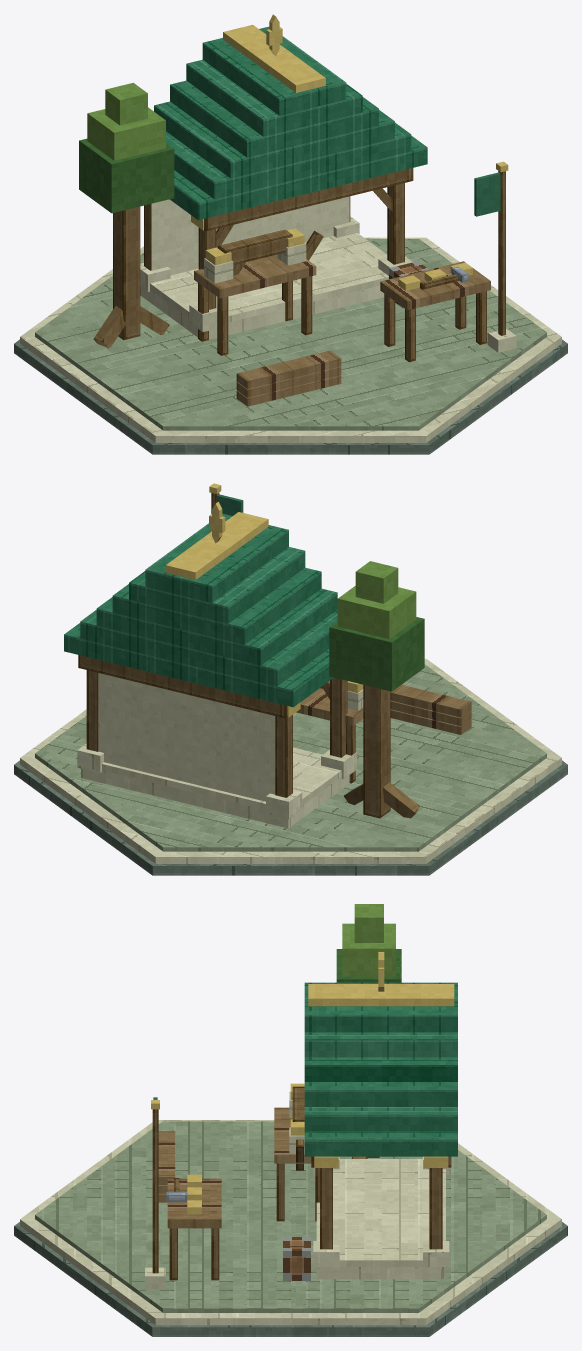
The model's file is elf_workshop_hex_v1.glb.
The picture shows the model from 3 angles, top to bottom: view 1: azimuth 30°, elevation 25°; view 2: azimuth 150°, elevation 25°; view 3: azimuth 270°, elevation 25°; orthographic projection.
Parts seen in each view (by area): view 1: Elf_Workshop_Hex_V1_Foundation, Elf_Workshop_Hex_V1_Roofs, Elf_Workshop_Hex_V1_Details, Elf_Workshop_Hex_V1_Hall, Elf_Workshop_Hex_V1_Structure, Elf_Workshop_Hex_V1_Faction; view 2: Elf_Workshop_Hex_V1_Foundation, Elf_Workshop_Hex_V1_Roofs, Elf_Workshop_Hex_V1_Hall, Elf_Workshop_Hex_V1_Details, Elf_Workshop_Hex_V1_Structure; view 3: Elf_Workshop_Hex_V1_Foundation, Elf_Workshop_Hex_V1_Roofs, Elf_Workshop_Hex_V1_Details, Elf_Workshop_Hex_V1_Hall, Elf_Workshop_Hex_V1_Structure.
Part boxes in pixels (x1,y1,x2,y2): Elf_Workshop_Hex_V1_Foundation: (14,237,567,454); Elf_Workshop_Hex_V1_Roofs: (154,24,427,220); Elf_Workshop_Hex_V1_Details: (79,14,516,406); Elf_Workshop_Hex_V1_Hall: (140,196,388,339); Elf_Workshop_Hex_V1_Structure: (93,168,413,347); Elf_Workshop_Hex_V1_Faction: (474,172,500,216); Elf_Workshop_Hex_V1_Foundation: (14,658,567,875); Elf_Workshop_Hex_V1_Roofs: (64,512,337,707); Elf_Workshop_Hex_V1_Hall: (81,673,349,828); Elf_Workshop_Hex_V1_Details: (209,483,471,783); Elf_Workshop_Hex_V1_Structure: (77,655,419,819); Elf_Workshop_Hex_V1_Foundation: (14,1120,567,1336); Elf_Workshop_Hex_V1_Roofs: (304,982,457,1156); Elf_Workshop_Hex_V1_Details: (145,904,401,1288); Elf_Workshop_Hex_V1_Hall: (316,1159,445,1279); Elf_Workshop_Hex_V1_Structure: (289,1083,451,1269).
Bounding box in the file's own units: 1.59 × 1.09 × 1.84.
1 material, 1 textured.
